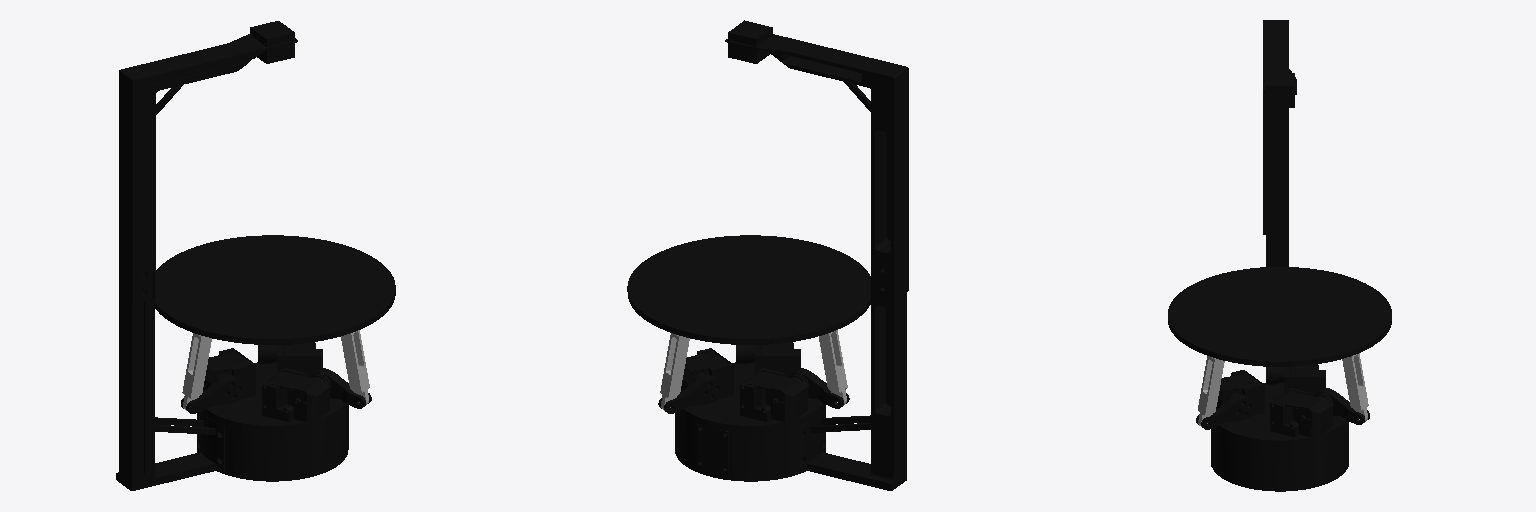
robot.urdf — urdf_rdy_ball_balancer:
<?xml version='1.0' encoding='utf-8'?>
<robot name="urdf_rdy_ball_balancer">
  <link name="base_link">
    <inertial>
      <origin xyz="-0.024292648241 -0.000594708805024 0.0784667505528" rpy="0 0 0" />
      <mass value="1.0" />
      <inertia ixx="0.0138629339974" iyy="0.0168610104708" izz="0.00524300261839" ixy="-7.83398164448e-05" iyz="0.000133539617209" ixz="0.00362605685703" />
    </inertial>
    <visual>
      <origin xyz="0 0 0" rpy="0 0 0" />
      <geometry>
        <mesh filename="mm_stl/base_link.stl" scale="0.001 0.001 0.001" />
      </geometry>
      <material name="base_link_material">
        <color rgba="0.09 0.09 0.09 1" />
      </material>
    </visual>
  </link>
  <link name="lower_link_1_1">
    <inertial>
      <origin xyz="-0.0125210680153 -0.00267220424386 -0.00234425217122" rpy="0 0 0" />
      <mass value="0.00908" />
      <inertia ixx="6.41715268144e-07" iyy="2.71781561403e-06" izz="2.64374148419e-06" ixy="-1.63784250722e-07" iyz="-3.02865990849e-08" ixz="-3.91600625173e-07" />
    </inertial>
    <visual>
      <origin xyz="0.052317 0.003467 -0.081" rpy="0 0 0" />
      <geometry>
        <mesh filename="mm_stl/lower_link_1_1.stl" scale="0.001 0.001 0.001" />
      </geometry>
      <material name="lower_link_1_1_material">
        <color rgba="0.09 0.09 0.09 1" />
      </material>
    </visual>
    <collision>
      <origin xyz="0.052317 0.003467 -0.081" rpy="0 0 0" />
      <geometry>
        <mesh filename="mm_stl/lower_link_1_1.stl" scale="0.001 0.001 0.001" />
      </geometry>
    </collision>
  </link>
  <link name="upper_link_1_1">
    <inertial>
      <origin xyz="0.0071447232295 0.000924732431389 0.0369797714051" rpy="0 0 0" />
      <mass value="0.00738" />
      <inertia ixx="4.58870047258e-06" iyy="4.67560731041e-06" izz="4.40332665299e-07" ixy="2.30828334162e-13" iyz="-5.1634514096e-13" ixz="-8.56137496225e-07" />
    </inertial>
    <visual>
      <origin xyz="0.096879 0.007717 -0.072889" rpy="0 0 0" />
      <geometry>
        <mesh filename="mm_stl/upper_link_1_1.stl" scale="0.001 0.001 0.001" />
      </geometry>
      <material name="upper_link_1_1_material">
        <color rgba="0.65 0.65 0.65 1" />
      </material>
    </visual>
    <collision>
      <origin xyz="0.096879 0.007717 -0.072889" rpy="0 0 0" />
      <geometry>
        <mesh filename="mm_stl/upper_link_1_1.stl" scale="0.001 0.001 0.001" />
      </geometry>
    </collision>
  </link>
  <link name="platform_link_1">
    <inertial>
      <origin xyz="0.0790359158844 0.00680688897169 0.00643421098481" rpy="0 0 0" />
      <mass value="0.15146" />
      <inertia ixx="0.000513690999399" iyy="0.000513614293962" izz="0.0010251405341" ixy="-4.50332460659e-08" iyz="2.21393763128e-08" ixz="1.03100607857e-08" />
    </inertial>
    <visual>
      <origin xyz="0.079029 0.006792 -0.164363" rpy="0 0 0" />
      <geometry>
        <mesh filename="mm_stl/platform_link_1.stl" scale="0.001 0.001 0.001" />
      </geometry>
      <material name="platform_link_1_material">
        <color rgba="0.09 0.09 0.09 1" />
      </material>
    </visual>
    <collision>
      <origin xyz="0.079029 0.006792 -0.164363" rpy="0 0 0" />
      <geometry>
        <mesh filename="mm_stl/platform_link_1.stl" scale="0.001 0.001 0.001" />
      </geometry>
    </collision>
  </link>
  <link name="lower_link_2_1">
    <inertial>
      <origin xyz="0.00857699092234 -0.00951079158378 -0.00234521104379" rpy="0 0 0" />
      <mass value="0.00908" />
      <inertia ixx="2.05681763695e-06" iyy="1.30239121057e-06" izz="2.64384511853e-06" ixy="9.80936530436e-07" iyz="-3.24061775624e-07" ixz="2.2208398306e-07" />
    </inertial>
    <visual>
      <origin xyz="-0.029161 0.043574 -0.081" rpy="0 0 0" />
      <geometry>
        <mesh filename="mm_stl/lower_link_2_1.stl" scale="0.001 0.001 0.001" />
      </geometry>
      <material name="lower_link_2_1_material">
        <color rgba="0.09 0.09 0.09 1" />
      </material>
    </visual>
    <collision>
      <origin xyz="-0.029161 0.043574 -0.081" rpy="0 0 0" />
      <geometry>
        <mesh filename="mm_stl/lower_link_2_1.stl" scale="0.001 0.001 0.001" />
      </geometry>
    </collision>
  </link>
  <link name="upper_link_2_1">
    <inertial>
      <origin xyz="-0.00437392016197 0.00572554684495 0.0369831901785" rpy="0 0 0" />
      <mass value="0.00738" />
      <inertia ixx="4.65509338318e-06" iyy="4.61161365168e-06" izz="4.40364806022e-07" ixy="3.76541651793e-08" iyz="-7.41638239355e-07" ixz="4.28185807256e-07" />
    </inertial>
    <visual>
      <origin xyz="-0.055123 0.080041 -0.072889" rpy="0 0 0" />
      <geometry>
        <mesh filename="mm_stl/upper_link_2_1.stl" scale="0.001 0.001 0.001" />
      </geometry>
      <material name="upper_link_2_1_material">
        <color rgba="0.65 0.65 0.65 1" />
      </material>
    </visual>
    <collision>
      <origin xyz="-0.055123 0.080041 -0.072889" rpy="0 0 0" />
      <geometry>
        <mesh filename="mm_stl/upper_link_2_1.stl" scale="0.001 0.001 0.001" />
      </geometry>
    </collision>
  </link>
  <link name="lower_link_3_1">
    <inertial>
      <origin xyz="0.00394773587327 0.0121830565978 -0.00234514215703" rpy="0 0 0" />
      <mass value="0.00908" />
      <inertia ixx="2.3405266383e-06" iyy="1.0186899776e-06" izz="2.64383537754e-06" ixy="-8.17133588085e-07" iyz="3.54359297814e-07" ixz="1.6959973561e-07" />
    </inertial>
    <visual>
      <origin xyz="-0.023156 -0.047041 -0.081" rpy="0 0 0" />
      <geometry>
        <mesh filename="mm_stl/lower_link_3_1.stl" scale="0.001 0.001 0.001" />
      </geometry>
      <material name="lower_link_3_1_material">
        <color rgba="0.09 0.09 0.09 1" />
      </material>
    </visual>
    <collision>
      <origin xyz="-0.023156 -0.047041 -0.081" rpy="0 0 0" />
      <geometry>
        <mesh filename="mm_stl/lower_link_3_1.stl" scale="0.001 0.001 0.001" />
      </geometry>
    </collision>
  </link>
  <link name="upper_link_3_1">
    <inertial>
      <origin xyz="-0.00277147115737 -0.00665028160289 0.0369831867573" rpy="0 0 0" />
      <mass value="0.00738" />
      <inertia ixx="4.65509316434e-06" iyy="4.61161391699e-06" izz="4.40365047971e-07" ixy="-3.76544365831e-08" iyz="7.41639355611e-07" ixz="4.28184880033e-07" />
    </inertial>
    <visual>
      <origin xyz="-0.041756 -0.087758 -0.072889" rpy="0 0 0" />
      <geometry>
        <mesh filename="mm_stl/upper_link_3_1.stl" scale="0.001 0.001 0.001" />
      </geometry>
      <material name="upper_link_3_1_material">
        <color rgba="0.65 0.65 0.65 1" />
      </material>
    </visual>
    <collision>
      <origin xyz="-0.041756 -0.087758 -0.072889" rpy="0 0 0" />
      <geometry>
        <mesh filename="mm_stl/upper_link_3_1.stl" scale="0.001 0.001 0.001" />
      </geometry>
    </collision>
  </link>
  <joint name="servo_1" type="revolute">
    <origin xyz="-0.052317 -0.003467 0.081" rpy="0 0 0" />
    <parent link="base_link" />
    <child link="lower_link_1_1" />
    <axis xyz="0 1 0" />
    <limit lower="-0.3490658503988659" upper="1.7453292519943295" effort="0.5" velocity="0.5" />
  </joint>
  <joint name="elbow_1" type="revolute">
    <origin xyz="-0.044562 -0.00425 -0.008111" rpy="0 0 0" />
    <parent link="lower_link_1_1" />
    <child link="upper_link_1_1" />
    <axis xyz="0 1 -0" />
    <limit lower="-0.4188790204786391" upper="2.8797932657906435" effort="0" velocity="10" />
  </joint>
  <joint name="ball_1" type="continuous">
    <origin xyz="0.01785 0.000925 0.091474" rpy="0 0 0" />
    <parent link="upper_link_1_1" />
    <child link="platform_link_1" />
    <axis xyz="0 0 1" />
  </joint>
  <joint name="servo_2" type="revolute">
    <origin xyz="0.029161 -0.043574 0.081" rpy="0 0 0" />
    <parent link="base_link" />
    <child link="lower_link_2_1" />
    <axis xyz="-0.866019052629 -0.500011000363 -0" />
    <limit lower="-0.3490658503988659" upper="1.7453292519943295" effort="0.5" velocity="0.5" />
  </joint>
  <joint name="elbow_2" type="revolute">
    <origin xyz="0.025962 -0.036467 -0.008111" rpy="0 0 0" />
    <parent link="lower_link_2_1" />
    <child link="upper_link_2_1" />
    <axis xyz="-0.866019052629 -0.500011000363 -0" />
    <limit lower="-0.4188790204786391" upper="2.8797932657906435" effort="0" velocity="10" />
  </joint>
  <joint name="servo_3" type="revolute">
    <origin xyz="0.023156 0.047041 0.081" rpy="0 0 0" />
    <parent link="base_link" />
    <child link="lower_link_3_1" />
    <axis xyz="0.866019052629 -0.500011000363 -0" />
    <limit lower="-0.3490658503988659" upper="1.7453292519943295" effort="0.5" velocity="0.5" />
  </joint>
  <joint name="elbow_3" type="revolute">
    <origin xyz="0.0186 0.040717 -0.008111" rpy="0 0 0" />
    <parent link="lower_link_3_1" />
    <child link="upper_link_3_1" />
    <axis xyz="0.866019052629 -0.500011000363 -0" />
    <limit lower="-0.4188790204786391" upper="2.8797932657906435" effort="0" velocity="10" />
  </joint>
</robot>

--- What the picture shows (computed from the rendered views, not written in the file) ---
3 views of the same robot in one strip: view 1: azimuth 30°, elevation 25°; view 2: azimuth 150°, elevation 25°; view 3: azimuth 270°, elevation 25° (orthographic).
Model urdf_rdy_ball_balancer with 8 links and 7 joints (6 revolute, 1 continuous), rooted at base_link, posed every joint at zero.
Visible links, largest first — view 1: base_link, platform_link_1, upper_link_1_1, lower_link_1_1, upper_link_2_1, lower_link_2_1; view 2: base_link, platform_link_1, upper_link_3_1, lower_link_3_1, upper_link_1_1, lower_link_1_1; view 3: base_link, platform_link_1, upper_link_2_1, lower_link_2_1, upper_link_3_1, lower_link_3_1.
Link boxes in pixels (box(x1,y1,x2,y2)): base_link: box(116, 21, 348, 490); platform_link_1: box(155, 235, 395, 344); upper_link_1_1: box(182, 333, 211, 410); lower_link_1_1: box(181, 373, 244, 413); upper_link_2_1: box(341, 330, 369, 404); lower_link_2_1: box(311, 368, 371, 408); base_link: box(675, 20, 908, 490); platform_link_1: box(627, 235, 870, 344); upper_link_3_1: box(660, 333, 689, 410); lower_link_3_1: box(658, 373, 722, 413); upper_link_1_1: box(819, 330, 847, 405); lower_link_1_1: box(788, 368, 849, 408); base_link: box(1211, 20, 1348, 491); platform_link_1: box(1168, 267, 1391, 366); upper_link_2_1: box(1198, 356, 1224, 426); lower_link_2_1: box(1196, 393, 1254, 429); upper_link_3_1: box(1342, 353, 1368, 422); lower_link_3_1: box(1315, 388, 1369, 424).
Size in the robot's own frame: 0.2874 by 0.2399 by 0.4515 metres.
Meshes: 8 distinct files referenced, 8 mesh visuals loaded (8 ASCII STL).
